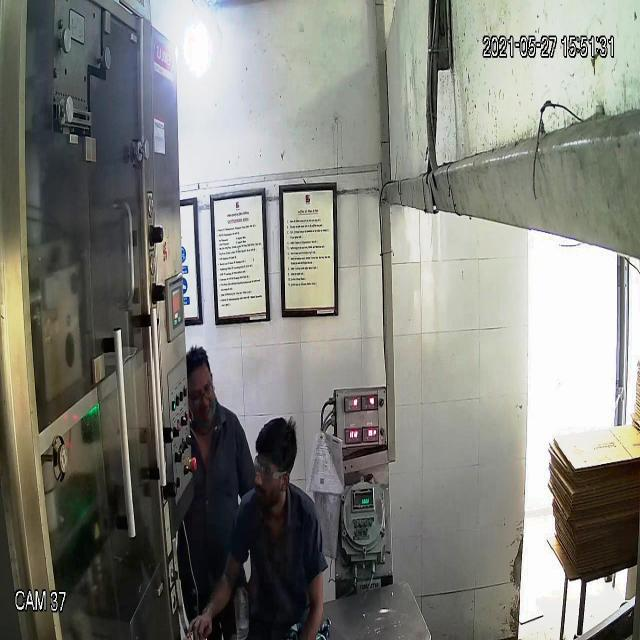glasses: (251, 453, 293, 487)
